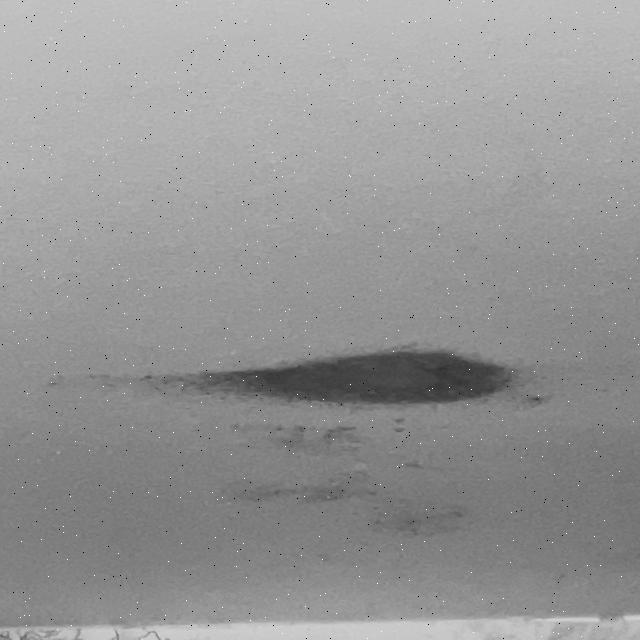stain marks: (50, 336, 592, 414), (198, 413, 482, 556)
